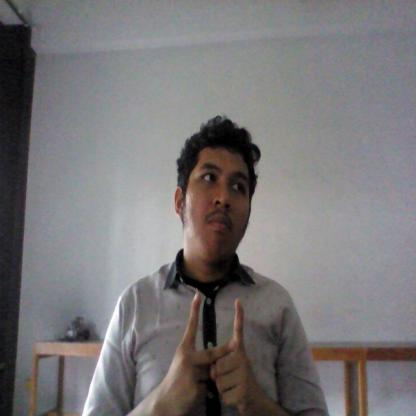H: (168, 288, 262, 416)
